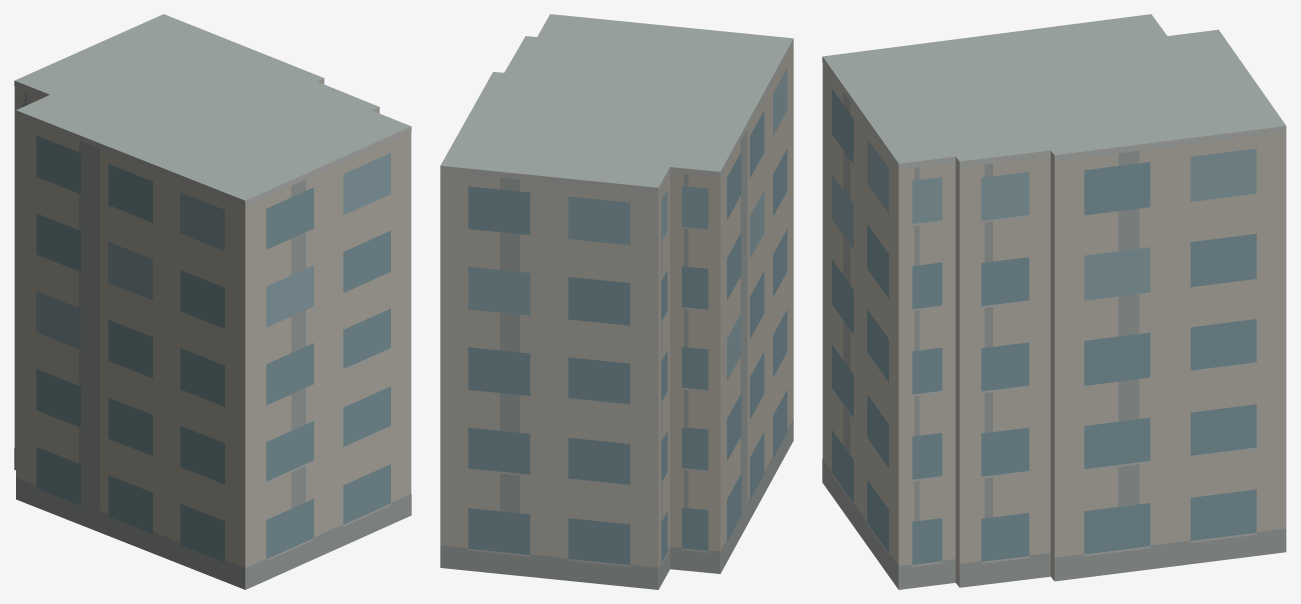
Rendered from survey-upis-32860748.glb.
The picture shows the model from 3 angles, left to right: view 1: azimuth 30°, elevation 25°; view 2: azimuth 150°, elevation 25°; view 3: azimuth 270°, elevation 25°; orthographic projection. The views are drawn at different scales.
Visible parts, largest first — view 1: survey-upis-32860748.tmp; view 2: survey-upis-32860748.tmp; view 3: survey-upis-32860748.tmp.
Part boxes in pixels (bbox=[...]): survey-upis-32860748.tmp: bbox=[14, 14, 411, 589]; survey-upis-32860748.tmp: bbox=[440, 14, 793, 589]; survey-upis-32860748.tmp: bbox=[822, 14, 1286, 589].
Size of the model in its own units: 12.51 by 16.6 by 16.39.
